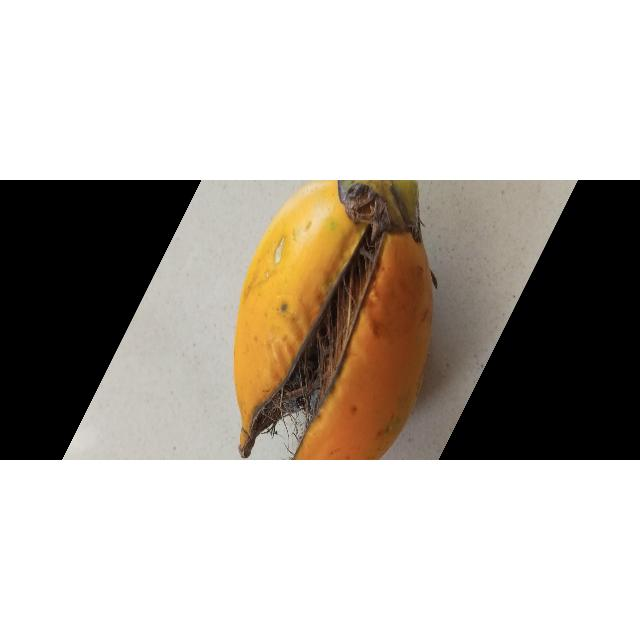damaged: (234, 180, 438, 461)
